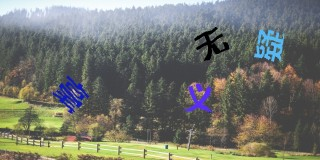义: (184, 83, 214, 113)
无: (194, 26, 229, 61)
毫: (53, 76, 89, 113)
疑: (254, 28, 285, 63)
